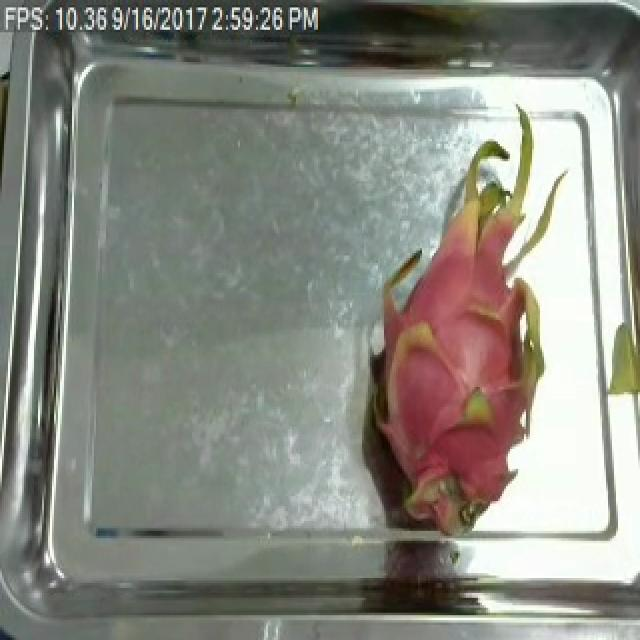fruit: (356, 112, 588, 533)
